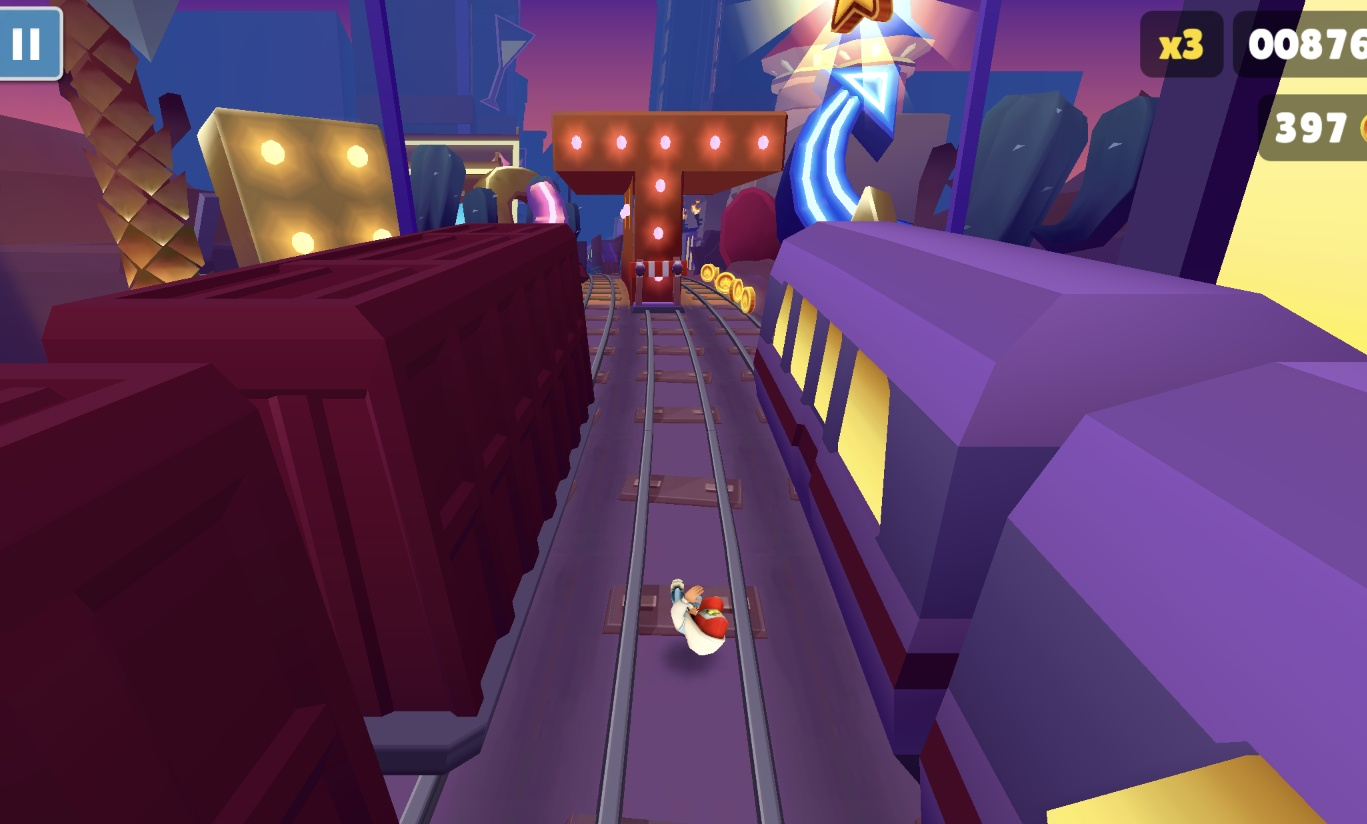ground_barrier: (629, 259, 689, 315)
pillar: (622, 171, 689, 307)
train: (756, 221, 1367, 824), (0, 220, 596, 824)
